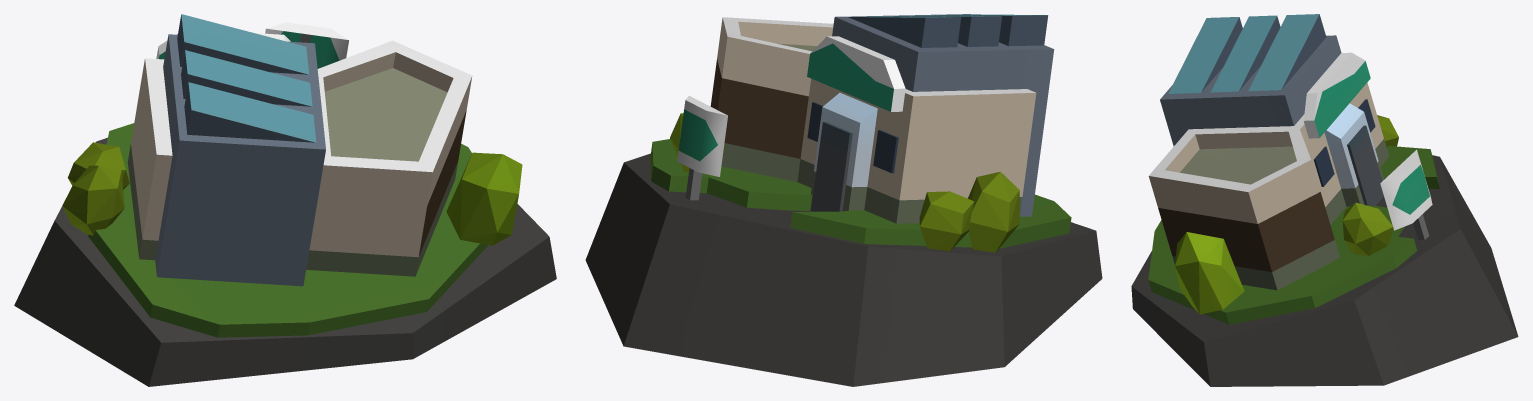
Rendered from city_lv02_A.fbx.
3 renders of one model, left to right at view 1: azimuth 30°, elevation 25°; view 2: azimuth 150°, elevation 25°; view 3: azimuth 270°, elevation 25°, orthographic. The views are drawn at different scales.
Visible parts, largest first — view 1: city_lv02_A; view 2: city_lv02_A; view 3: city_lv02_A.
Part boxes in pixels (x1,y1,x2,y2): city_lv02_A: [14, 14, 556, 386]; city_lv02_A: [585, 14, 1102, 386]; city_lv02_A: [1131, 14, 1518, 386].
Bounding box in the file's own units: 3429 × 2212 × 3155.
